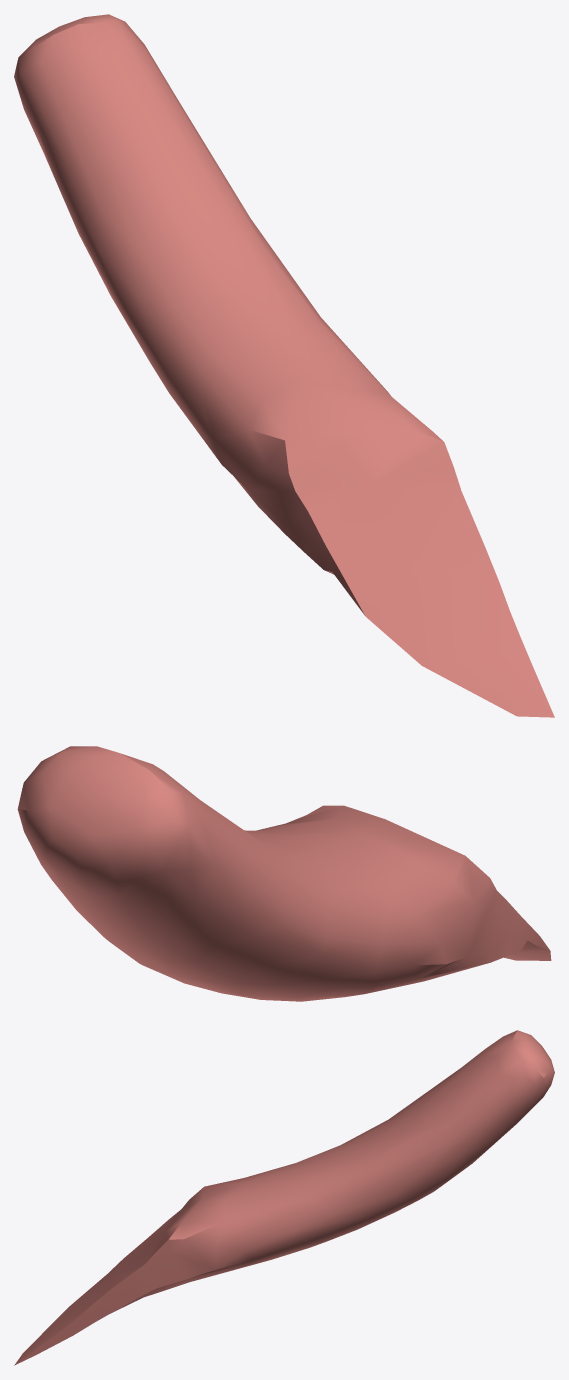
The model's file is fma42587_mm1931m.glb.
3 views of the same model, one above another, from view 1: azimuth 30°, elevation 25°; view 2: azimuth 150°, elevation 25°; view 3: azimuth 270°, elevation 25° (orthographic). The views are drawn at different scales.
Parts seen in each view (by area): view 1: FMA42587_MM1931M; view 2: FMA42587_MM1931M; view 3: FMA42587_MM1931M.
Part boxes in pixels (x1,y1,x2,y2): FMA42587_MM1931M: (14, 14, 554, 717); FMA42587_MM1931M: (17, 746, 551, 1001); FMA42587_MM1931M: (14, 1030, 554, 1365).
Bounding box in the file's own units: 0.00431 × 0.0109 × 0.0179.
